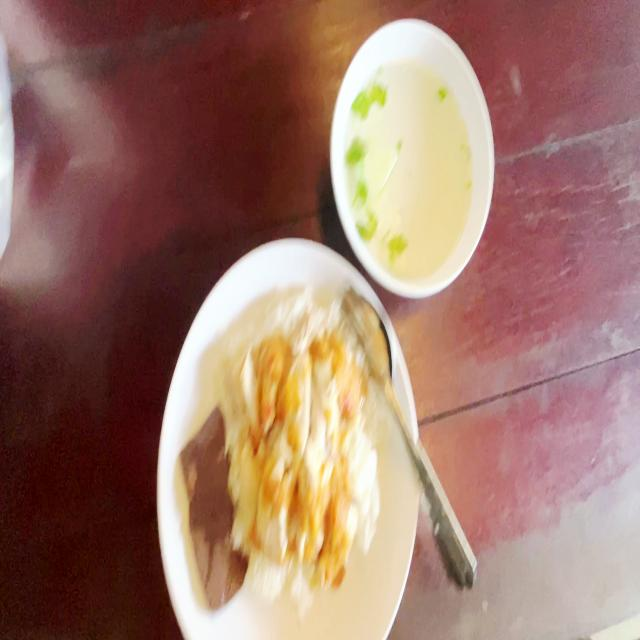boiled_chicken: (234, 334, 361, 559)
boiled_chicken_blood_jelly: (178, 403, 240, 598)
chicken_rice: (177, 288, 379, 607)
